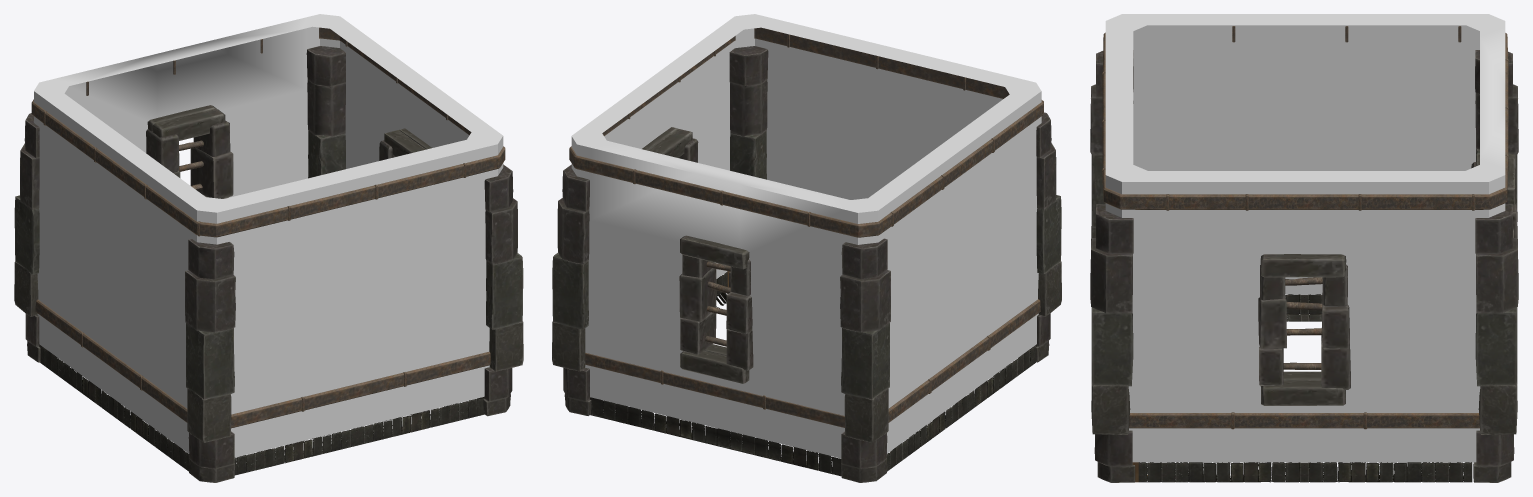
3 views of the same model, side by side, from view 1: azimuth 30°, elevation 25°; view 2: azimuth 150°, elevation 25°; view 3: azimuth 270°, elevation 25° (orthographic). The views are drawn at different scales.
Parts seen in each view (by area): view 1: SM_Dowdun_Tower_Base_12x12_01_LOD0; view 2: SM_Dowdun_Tower_Base_12x12_01_LOD0; view 3: SM_Dowdun_Tower_Base_12x12_01_LOD0.
Boxes of the visible parts, x1,y1,x2,y2 form: SM_Dowdun_Tower_Base_12x12_01_LOD0: (14, 14, 523, 482); SM_Dowdun_Tower_Base_12x12_01_LOD0: (552, 14, 1061, 482); SM_Dowdun_Tower_Base_12x12_01_LOD0: (1090, 14, 1518, 482).
Bounding box in the file's own units: 12.73 × 10 × 12.93.
4 materials, 3 textured.
